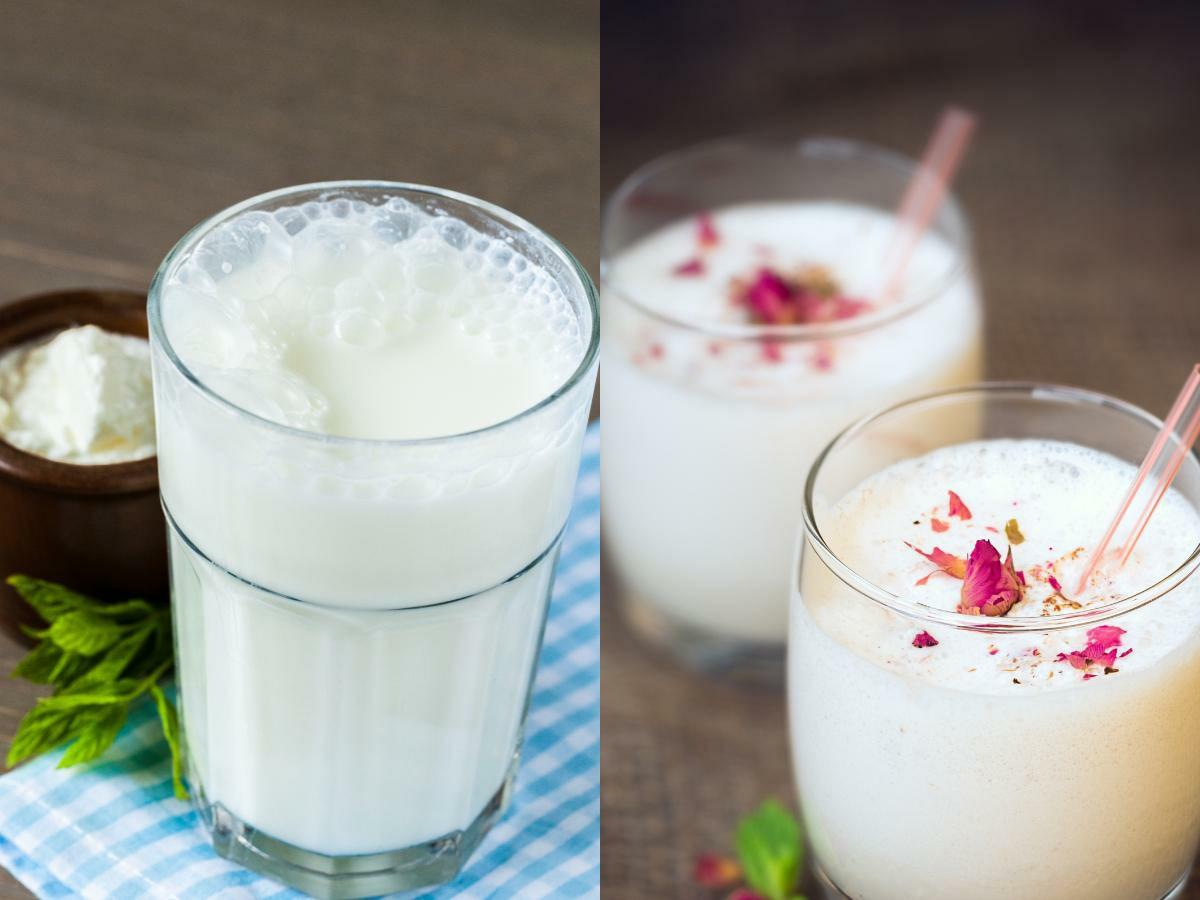Lassi: (157, 198, 595, 848), (788, 437, 1200, 895), (593, 203, 981, 642)
